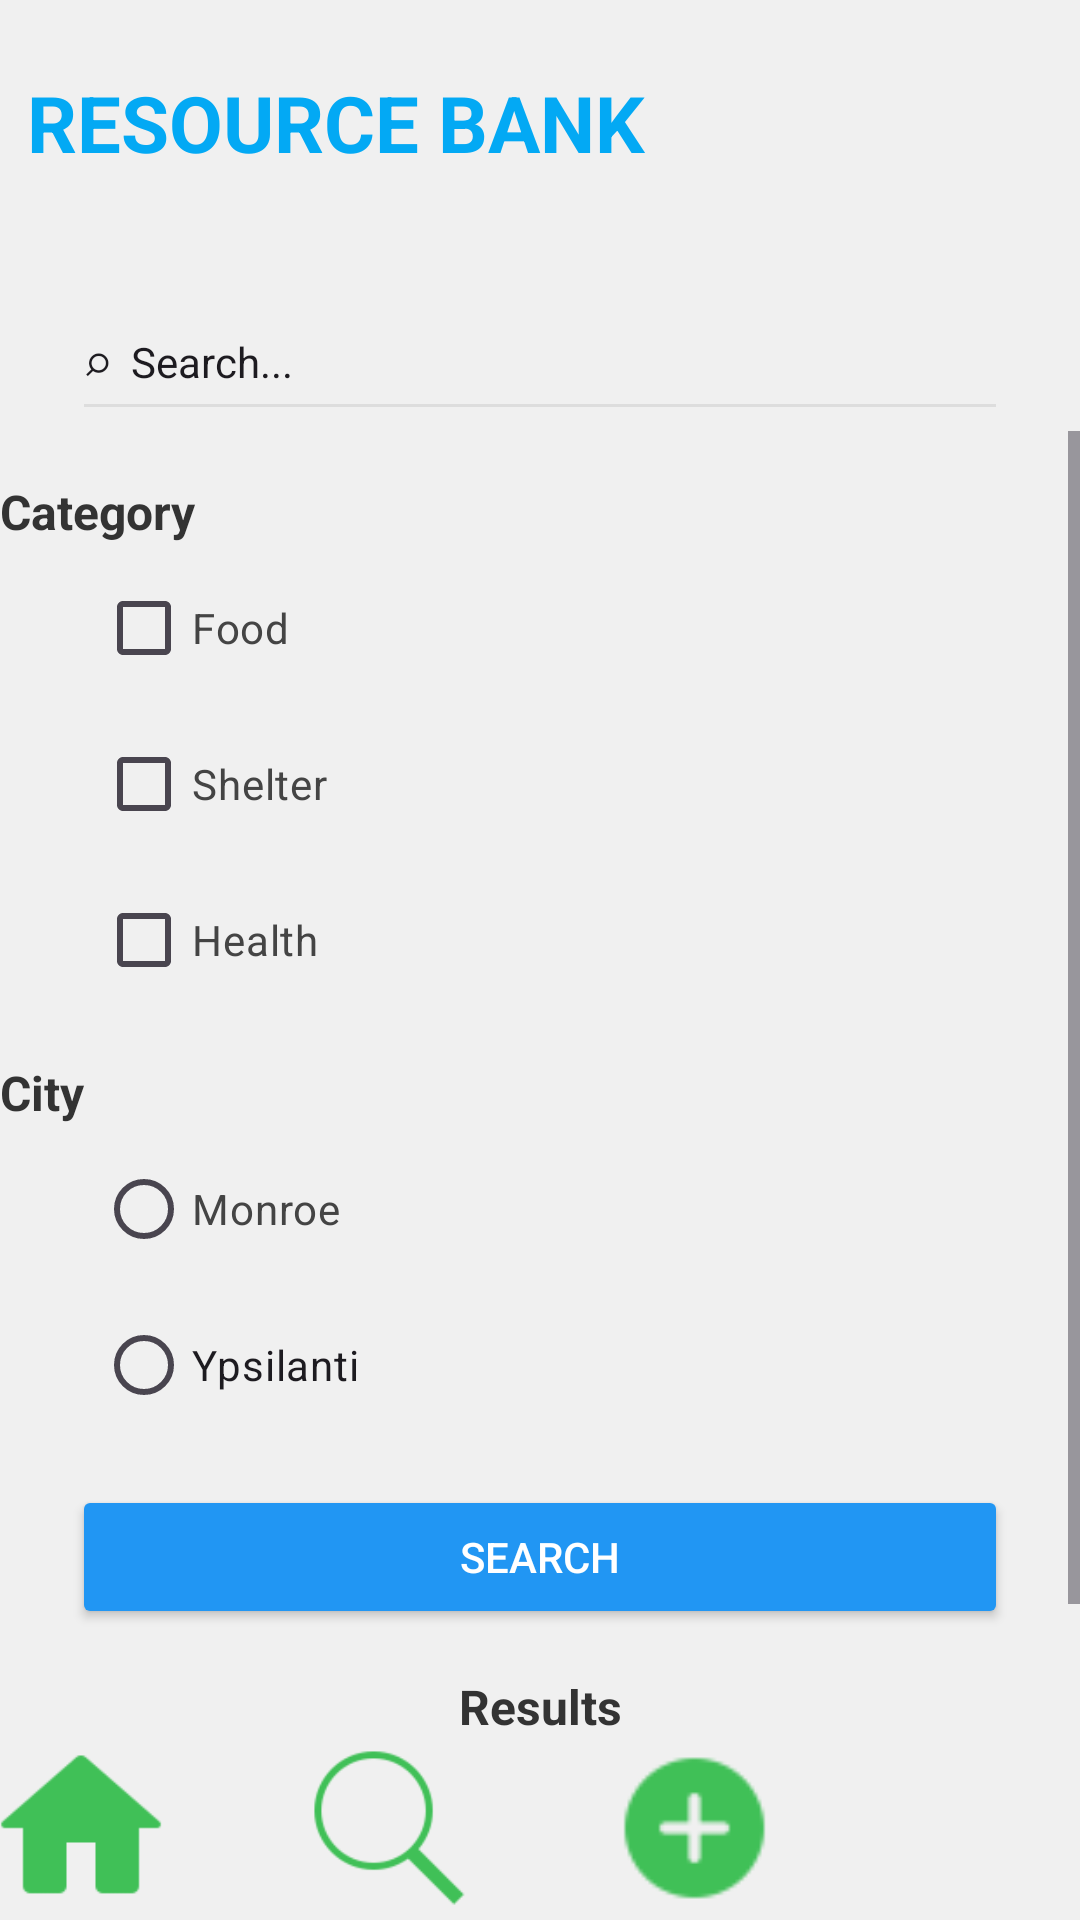

Where icons sit on this 1080w x 1920h app screen, as (x1, y1, x2, y2):
add: (624, 1757, 765, 1899)
